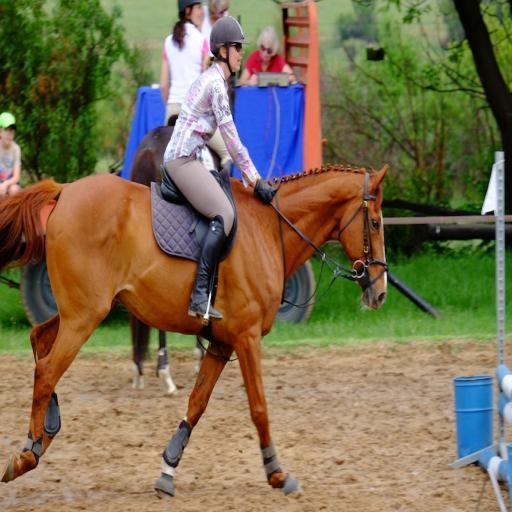horse: (0, 162, 390, 504), (128, 122, 222, 400)
